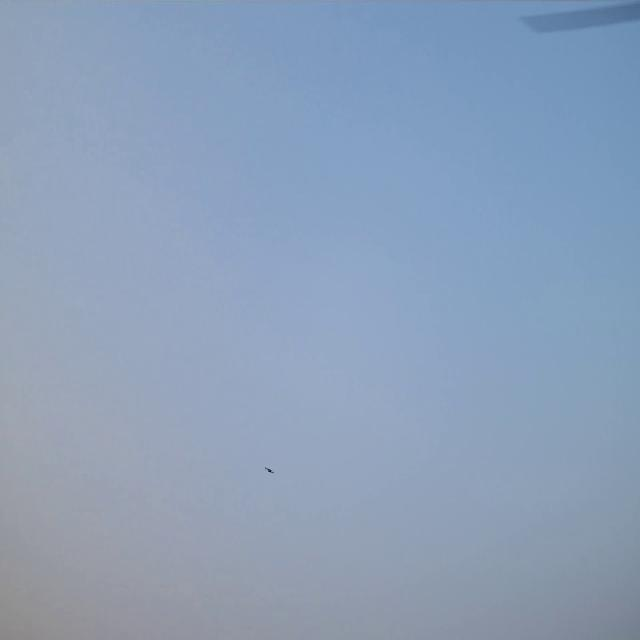UAV: (264, 466, 275, 473)
